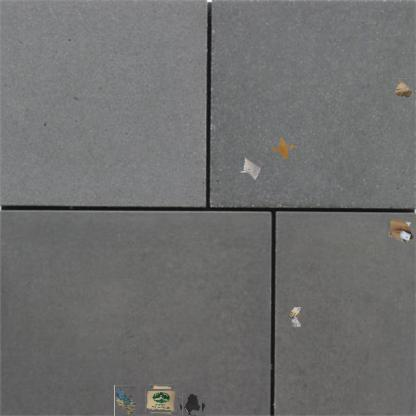dirty: (385, 217, 415, 245), (147, 386, 175, 414), (114, 384, 137, 416), (238, 156, 262, 180), (394, 78, 416, 100), (289, 306, 303, 328)
liquid: (180, 394, 204, 416), (274, 139, 292, 157)
